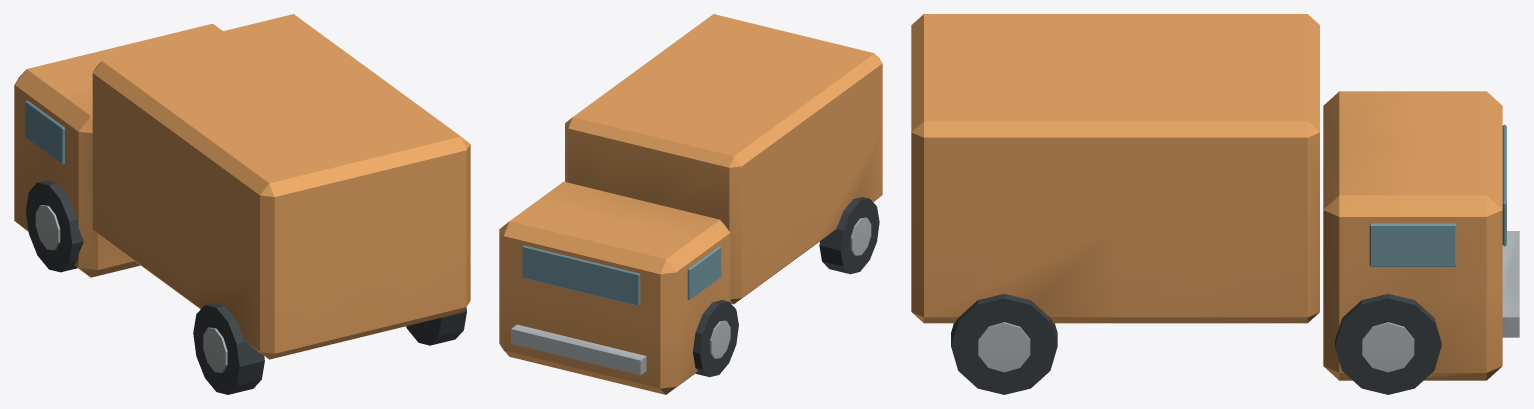
File: sm_vehicle_competitor_van.glb
3 views of the same model, side by side, from view 1: azimuth 30°, elevation 25°; view 2: azimuth 150°, elevation 25°; view 3: azimuth 270°, elevation 25° (orthographic). The views are drawn at different scales.
Parts seen in each view (by area): view 1: CargoBody, Cab, Wheel.001, Wheel, SideWindow, Wheel.003, Rim, Rim.001; view 2: CargoBody, Cab, Windshield, Bumper, Wheel.001, Wheel, SideWindow, Rim.001, Rim; view 3: CargoBody, Cab, Wheel.003, Wheel.002, SideWindow.001, Rim.003, Rim.002, Bumper, Windshield.
Boxes of the visible parts, x1=… form: CargoBody: x1=92, y1=14, x2=470, y2=359; Cab: x1=14, y1=23, x2=222, y2=277; Wheel.001: x1=193, y1=303, x2=264, y2=394; Wheel: x1=25, y1=180, x2=83, y2=272; SideWindow: x1=25, y1=100, x2=64, y2=164; Wheel.003: x1=406, y1=307, x2=466, y2=345; Rim: x1=35, y1=205, x2=60, y2=250; Rim.001: x1=203, y1=327, x2=227, y2=372; CargoBody: x1=565, y1=14, x2=882, y2=304; Cab: x1=499, y1=181, x2=730, y2=394; Windshield: x1=522, y1=245, x2=640, y2=306; Bumper: x1=511, y1=324, x2=646, y2=375; Wheel.001: x1=819, y1=197, x2=879, y2=274; Wheel: x1=693, y1=300, x2=738, y2=377; SideWindow: x1=687, y1=246, x2=721, y2=299; Rim.001: x1=850, y1=217, x2=871, y2=255; Rim: x1=710, y1=320, x2=730, y2=358; CargoBody: x1=911, y1=14, x2=1319, y2=323; Cab: x1=1323, y1=91, x2=1502, y2=380; Wheel.003: x1=951, y1=293, x2=1057, y2=394; Wheel.002: x1=1335, y1=293, x2=1441, y2=394; SideWindow.001: x1=1369, y1=223, x2=1456, y2=266; Rim.003: x1=978, y1=322, x2=1030, y2=372; Rim.002: x1=1362, y1=322, x2=1414, y2=372; Bumper: x1=1502, y1=231, x2=1519, y2=337; Windshield: x1=1502, y1=124, x2=1506, y2=246.
Size of the model in its own units: 2.47 by 2.35 by 4.91.
